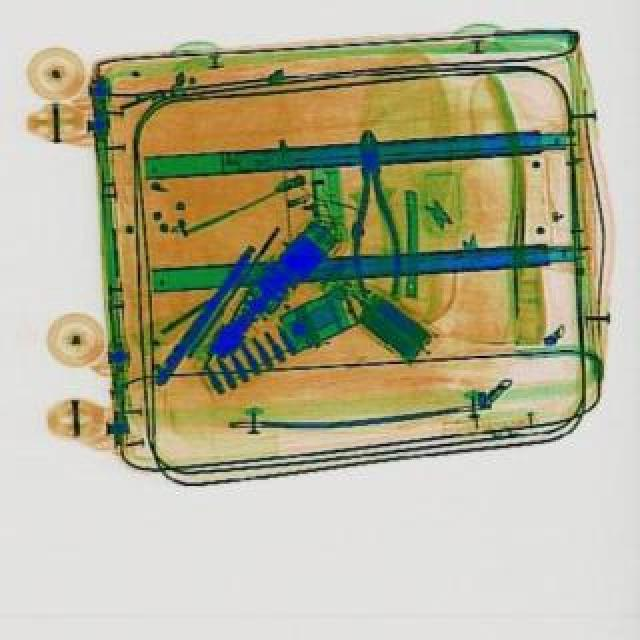wrench: (346, 130, 406, 302)
